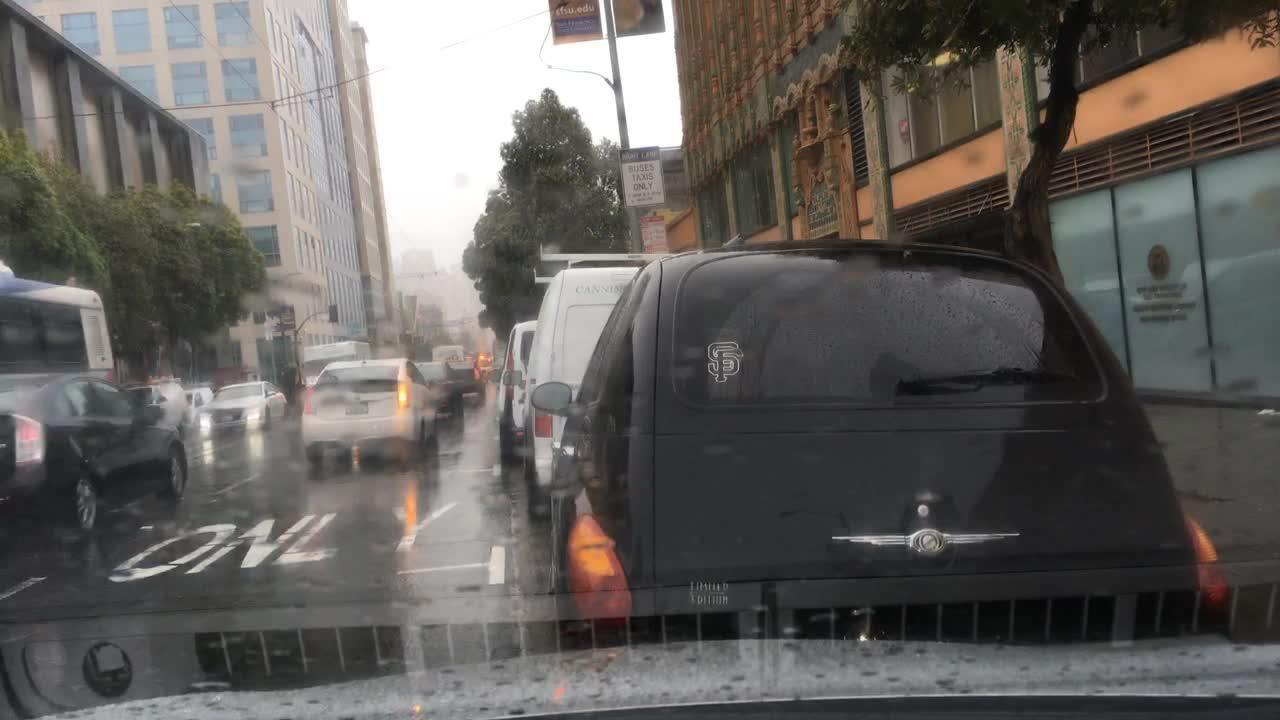Chrysler: (828, 521, 1030, 560)
